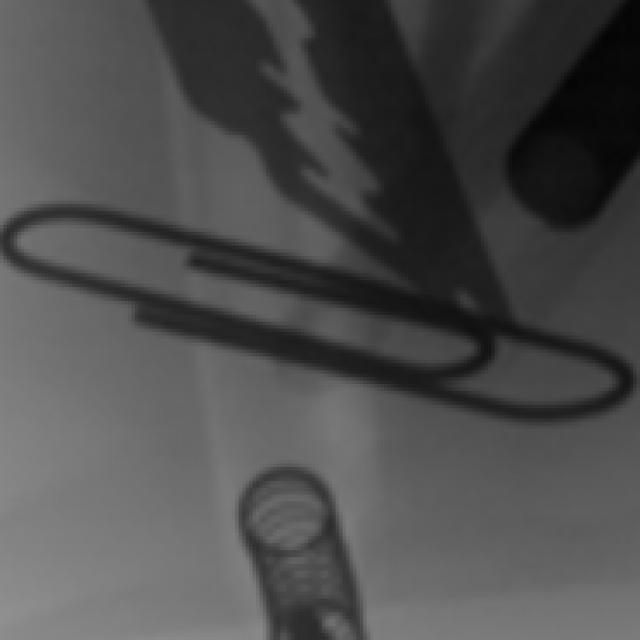BLADE: (129, 1, 534, 333)
